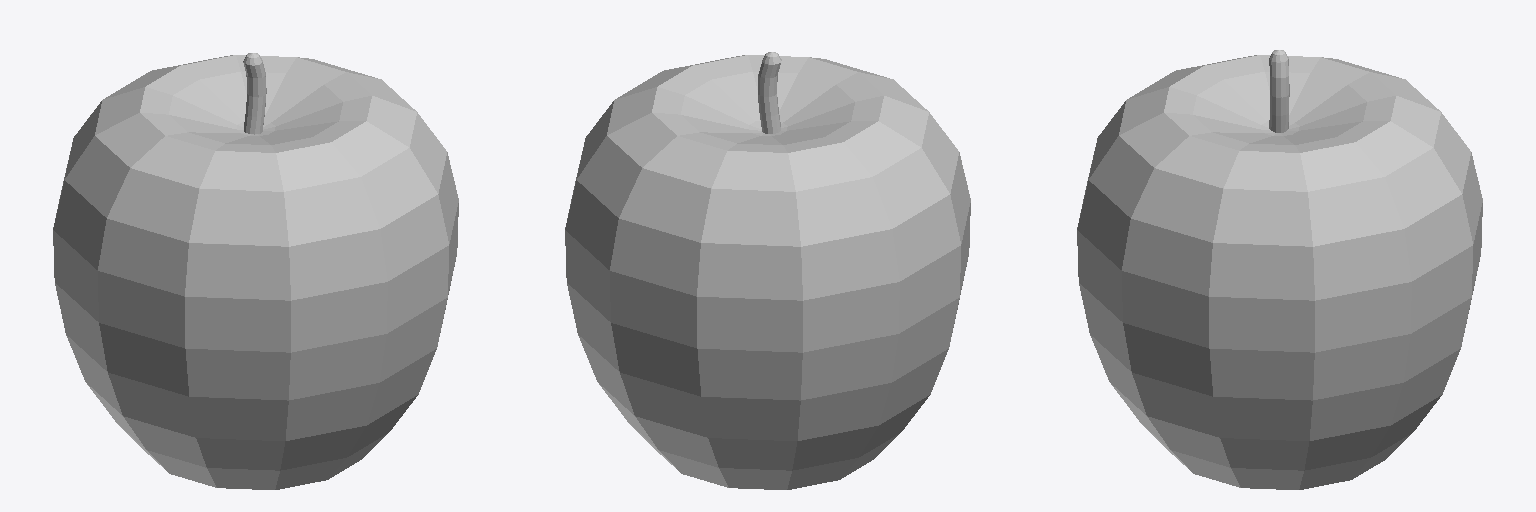
File: Manzana_Roja.obj
3 views of the same model, side by side, from view 1: azimuth 30°, elevation 25°; view 2: azimuth 150°, elevation 25°; view 3: azimuth 270°, elevation 25° (orthographic).
Parts seen in each view (by area): view 1: Manzana_Verde.002_apple.002; view 2: Manzana_Verde.002_apple.002; view 3: Manzana_Verde.002_apple.002.
Part boxes in pixels (x1,y1,x2,y2): Manzana_Verde.002_apple.002: (53,53,458,489); Manzana_Verde.002_apple.002: (565,52,970,489); Manzana_Verde.002_apple.002: (1077,50,1482,489).
Size of the model in its own units: 0.115 by 0.1278 by 0.115.